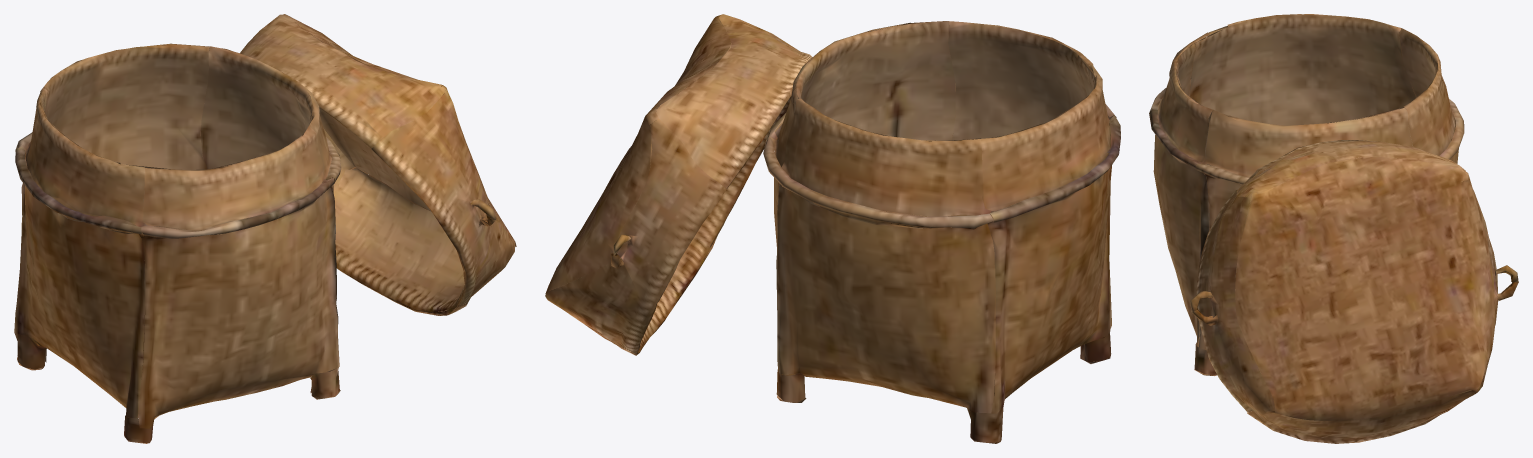
Rendered from basket-balanced-9ff1fbed64.glb.
The picture shows the model from 3 angles, left to right: view 1: azimuth 30°, elevation 25°; view 2: azimuth 150°, elevation 25°; view 3: azimuth 270°, elevation 25°; orthographic projection. The views are drawn at different scales.
Visible parts, largest first — view 1: wicker_basket_02_base; view 2: wicker_basket_02_base; view 3: wicker_basket_02_base.
Part boxes in pixels (box(x1,y1,x2,y2)): wicker_basket_02_base: box(14, 14, 516, 443); wicker_basket_02_base: box(545, 14, 1120, 443); wicker_basket_02_base: box(1149, 14, 1518, 443).
Size of the model in its own units: 0.3467 by 0.2004 by 0.2544.
1 material, 1 textured.
